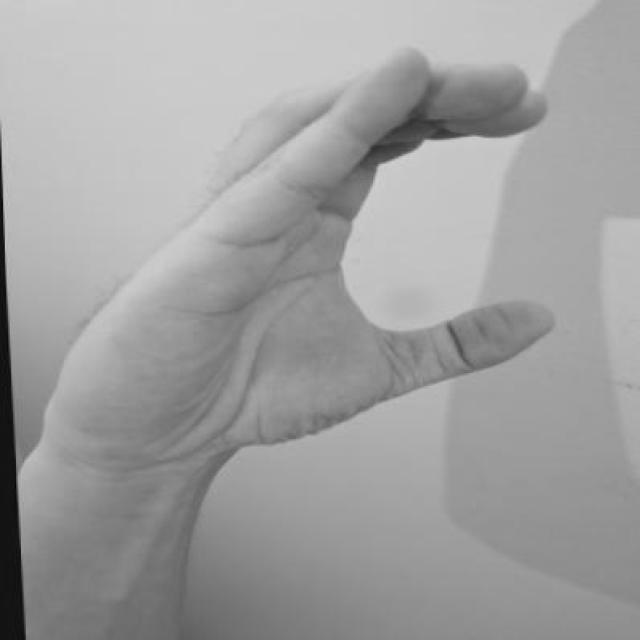C: (12, 41, 570, 475)
